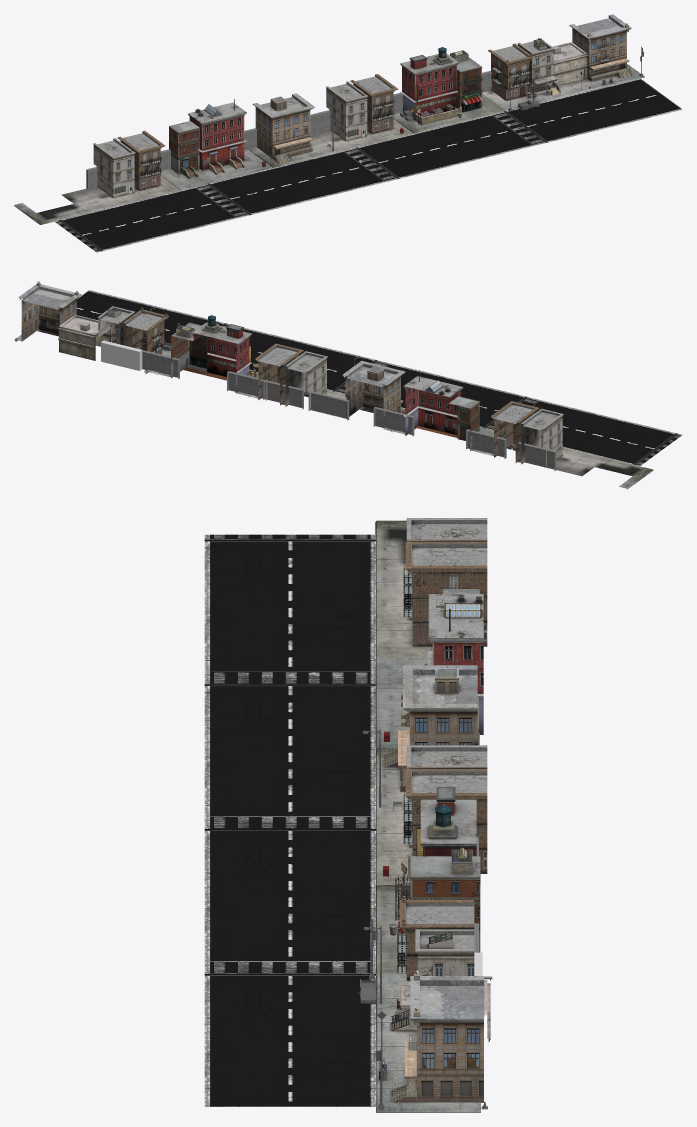
Rendered from TMNT_Street_Level_VS.FBX.
3 views of the same model, one above another, from view 1: azimuth 30°, elevation 25°; view 2: azimuth 150°, elevation 25°; view 3: azimuth 270°, elevation 25° (orthographic). The views are drawn at different scales.
Parts seen in each view (by area): view 1: Box010, Mesh009, Mesh005, Mesh002, TMNT_BUILDING_039, Mesh003, TMNT_BUILDING_031, TMNT_BUILDING_030, TMNT_BUILDING_037, TMNT_BUILDING_038, Mesh001, Mesh008 (+2 smaller); view 2: Box010, Mesh009, Mesh005, TMNT_BUILDING_031, Mesh003, Mesh002, TMNT_BUILDING_039, TMNT_BUILDING_037, TMNT_BUILDING_038, Mesh008, Mesh001, TMNT_BUILDING_030 (+8 smaller); view 3: Box010, TMNT_BUILDING_037, Mesh009, Mesh003, TMNT_BUILDING_039, Mesh005, Mesh001, Mesh008, TMNT_BUILDING_031, TMNT_BUILDING_038, Mesh002, Mesh004 (+1 smaller).
Part boxes in pixels (x1,y1,x2,y2): Box010: (54, 78, 682, 252); Mesh009: (93, 130, 165, 197); Mesh005: (326, 74, 398, 141); Mesh002: (400, 47, 461, 125); TMNT_BUILDING_039: (488, 37, 560, 100); Mesh003: (252, 93, 314, 163); TMNT_BUILDING_031: (188, 99, 246, 174); TMNT_BUILDING_030: (160, 121, 271, 190); TMNT_BUILDING_037: (569, 14, 633, 81); TMNT_BUILDING_038: (482, 42, 644, 110); Mesh001: (393, 50, 504, 133); Mesh008: (14, 176, 180, 224); Box010: (76, 290, 682, 465); Mesh009: (491, 401, 563, 466); Mesh005: (255, 343, 327, 409); TMNT_BUILDING_031: (403, 370, 463, 438); Mesh003: (342, 360, 405, 428); Mesh002: (192, 315, 258, 391); TMNT_BUILDING_039: (97, 306, 168, 368); TMNT_BUILDING_037: (18, 281, 81, 341); TMNT_BUILDING_038: (14, 314, 170, 374); Mesh008: (485, 447, 653, 489); Mesh001: (157, 322, 258, 397); TMNT_BUILDING_030: (393, 396, 493, 454); Box010: (204, 534, 375, 1106); TMNT_BUILDING_037: (389, 970, 483, 1102); Mesh009: (403, 518, 487, 646); Mesh003: (383, 665, 477, 791); TMNT_BUILDING_039: (390, 896, 474, 1031); Mesh005: (403, 745, 487, 873); Mesh001: (376, 847, 480, 975); Mesh008: (375, 520, 432, 657); TMNT_BUILDING_031: (401, 594, 483, 734); TMNT_BUILDING_038: (376, 974, 490, 1112); Mesh002: (398, 787, 476, 933); Mesh004: (376, 748, 480, 886).
Bounding box in the file's own units: 1952 × 196 × 402.
